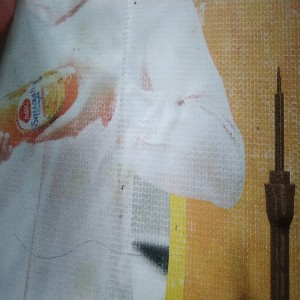solder: (263, 65, 296, 300)
